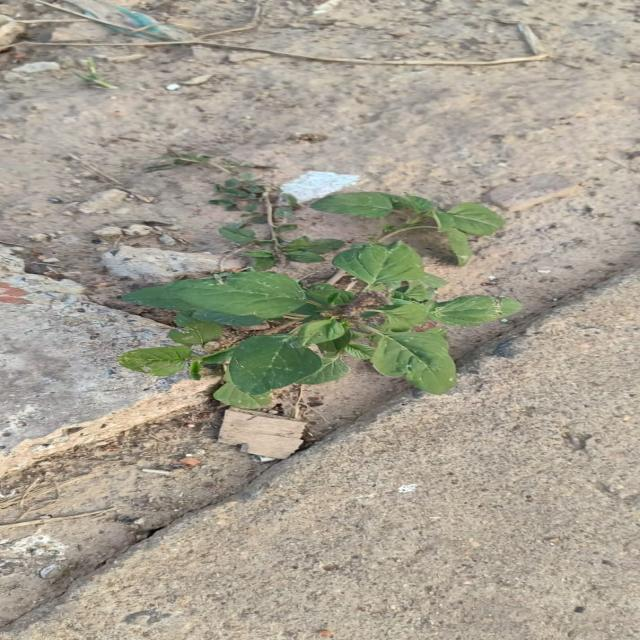plant: (117, 173, 521, 409)
